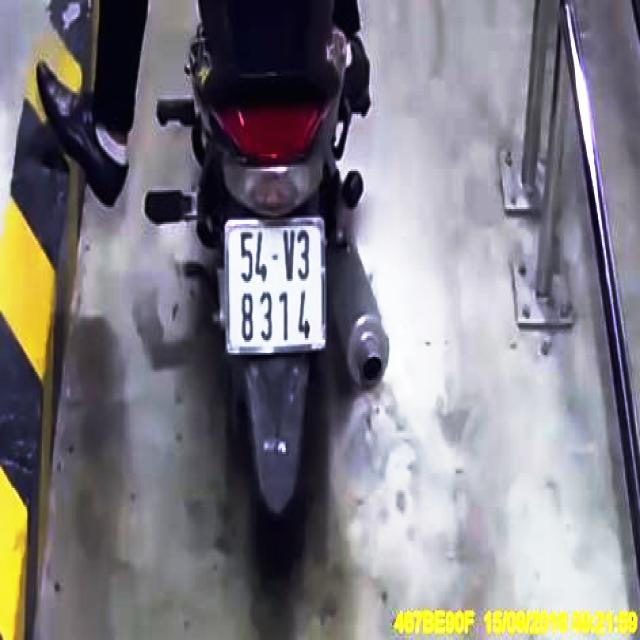license_plate: (229, 220, 328, 352)
